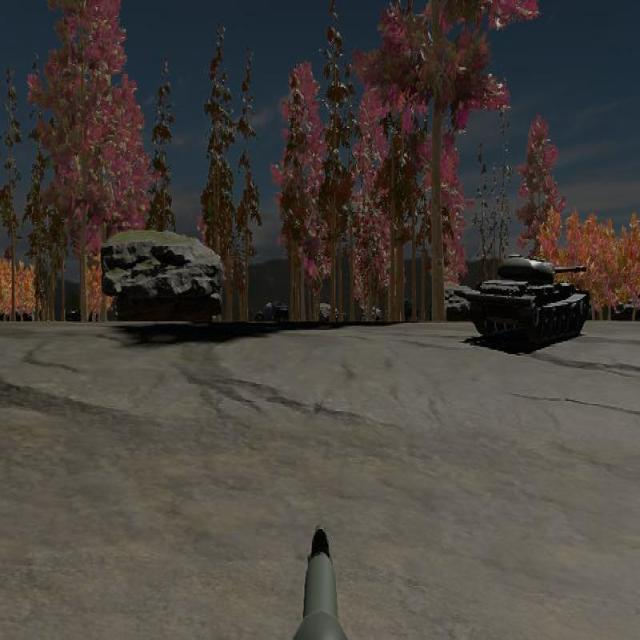Tank: (472, 254, 590, 349)
